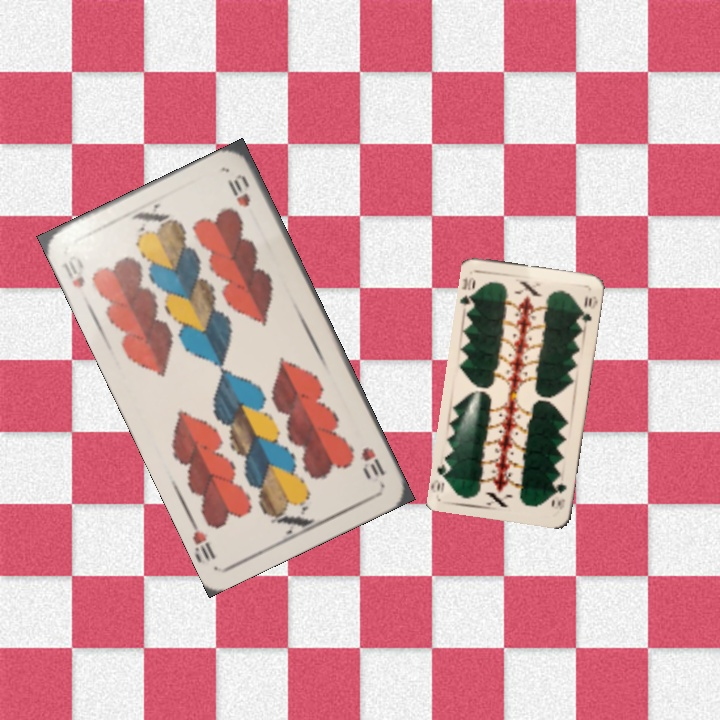G10: (457, 273, 479, 311), (551, 479, 569, 512)
H10: (58, 251, 88, 291), (357, 443, 388, 481)
